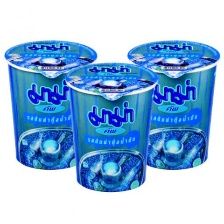paper_cup: (123, 33, 224, 174), (0, 34, 101, 173), (62, 58, 161, 196)
